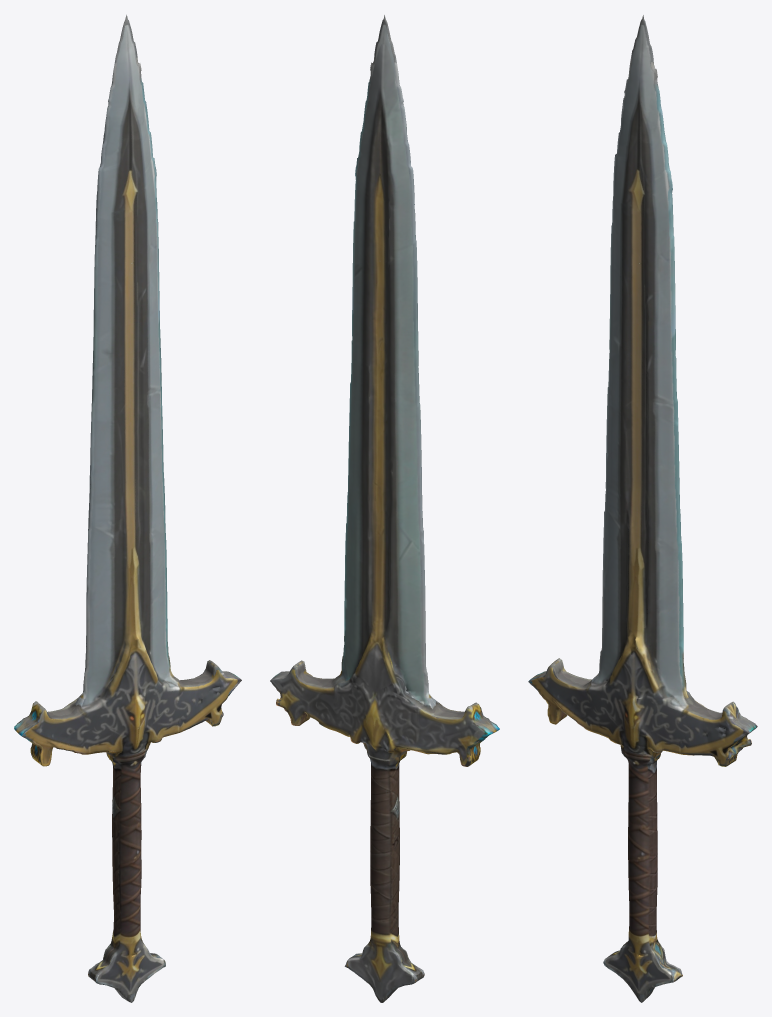
Rendered from Sword_Model.fbx.
3 renders of one model, left to right at view 1: azimuth 30°, elevation 25°; view 2: azimuth 150°, elevation 25°; view 3: azimuth 330°, elevation 25°, orthographic.
Parts seen in each view (by area): view 1: Mesh_0; view 2: Mesh_0; view 3: Mesh_0.
Part boxes in pixels (x1,y1,x2,y2): Mesh_0: (14,14,241,1002); Mesh_0: (270,15,499,1002); Mesh_0: (528,15,757,1002).
Size of the model in its own units: 46.57 by 199 by 8.39.
Materials: 1 (1 with a texture image).
